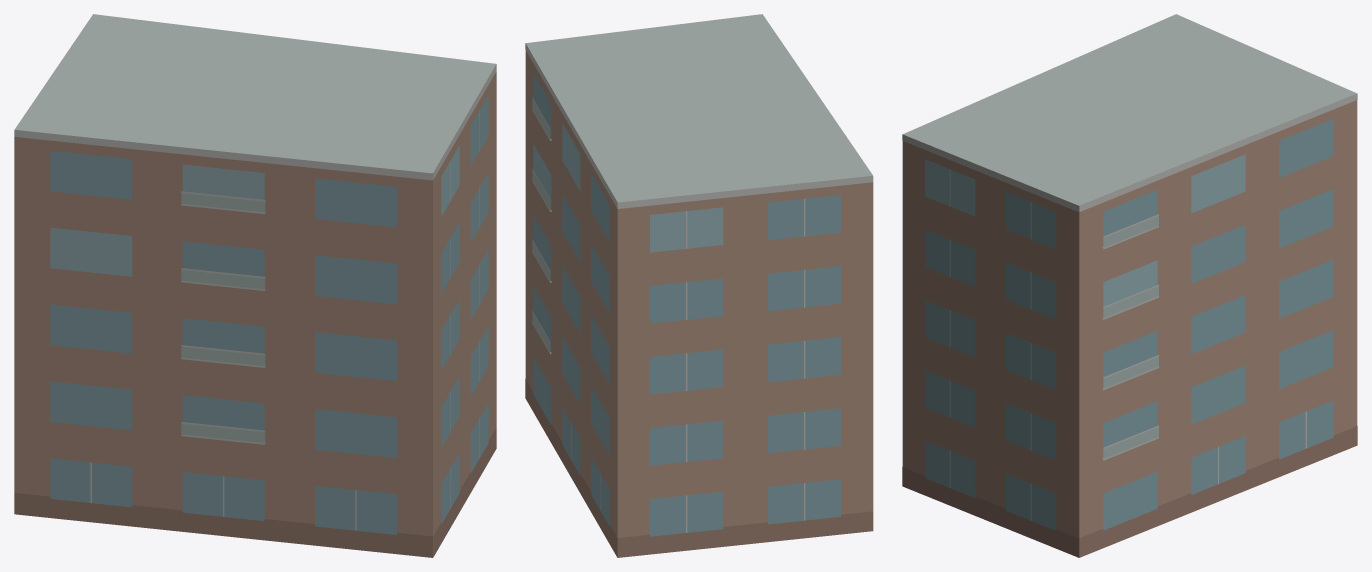
The model's file is survey-upis-33040263.glb.
The picture shows the model from 3 angles, left to right: view 1: azimuth 30°, elevation 25°; view 2: azimuth 150°, elevation 25°; view 3: azimuth 270°, elevation 25°; orthographic projection. The views are drawn at different scales.
Visible parts, largest first — view 1: survey-upis-33040263.tmp; view 2: survey-upis-33040263.tmp; view 3: survey-upis-33040263.tmp.
Boxes of the visible parts, left/top/right/bottom form: survey-upis-33040263.tmp: left=14, top=14, right=496, bottom=557; survey-upis-33040263.tmp: left=525, top=14, right=873, bottom=557; survey-upis-33040263.tmp: left=902, top=14, right=1357, bottom=557.
Size of the model in its own units: 15.67 by 13.4 by 15.7.
